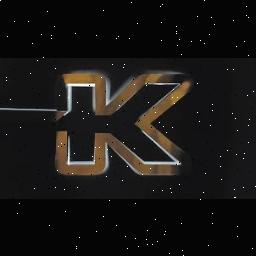k: (52, 57, 198, 183)
